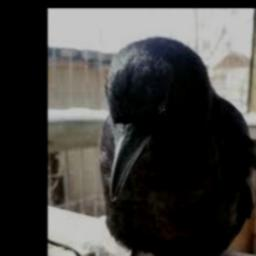Crow: (99, 36, 256, 256)
